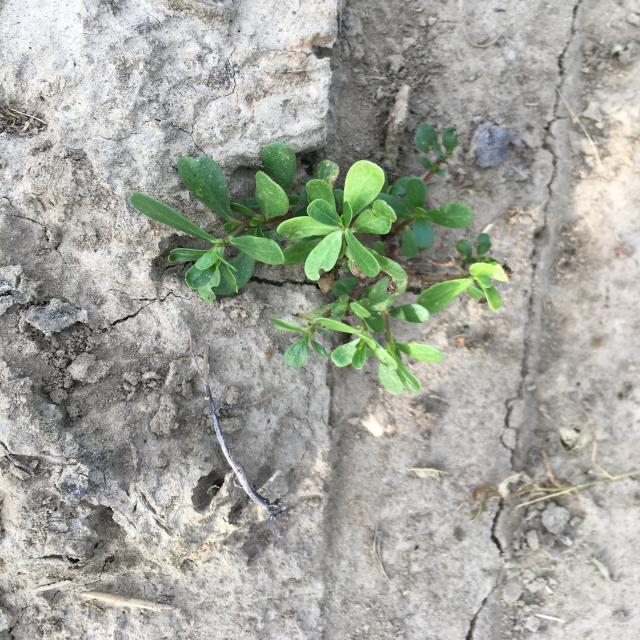Purslane: (130, 122, 509, 396)
